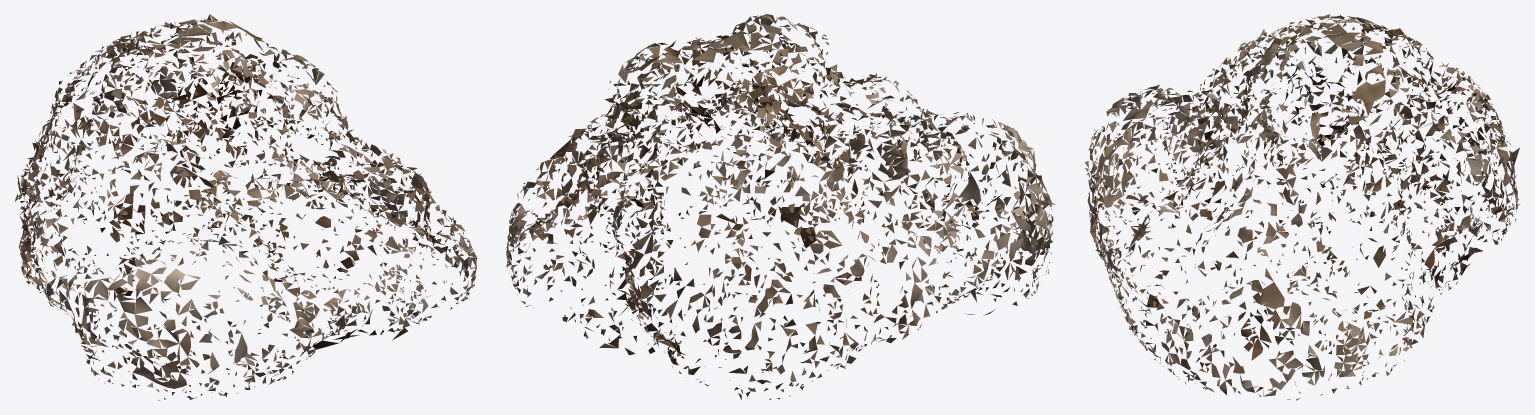
The model's file is Kruemel.glb.
The picture shows the model from 3 angles, left to right: view 1: azimuth 30°, elevation 25°; view 2: azimuth 150°, elevation 25°; view 3: azimuth 270°, elevation 25°; orthographic projection. The views are drawn at different scales.
Visible parts, largest first — view 1: Kruemel; view 2: Kruemel; view 3: Kruemel.
Boxes of the visible parts, x1,y1,x2,y2 form: Kruemel: (14,14,476,400); Kruemel: (506,14,1054,399); Kruemel: (1084,14,1519,400).
Size of the model in its own units: 0.0346 by 0.0216 by 0.0319.
Materials: 1 (1 with a texture image).
